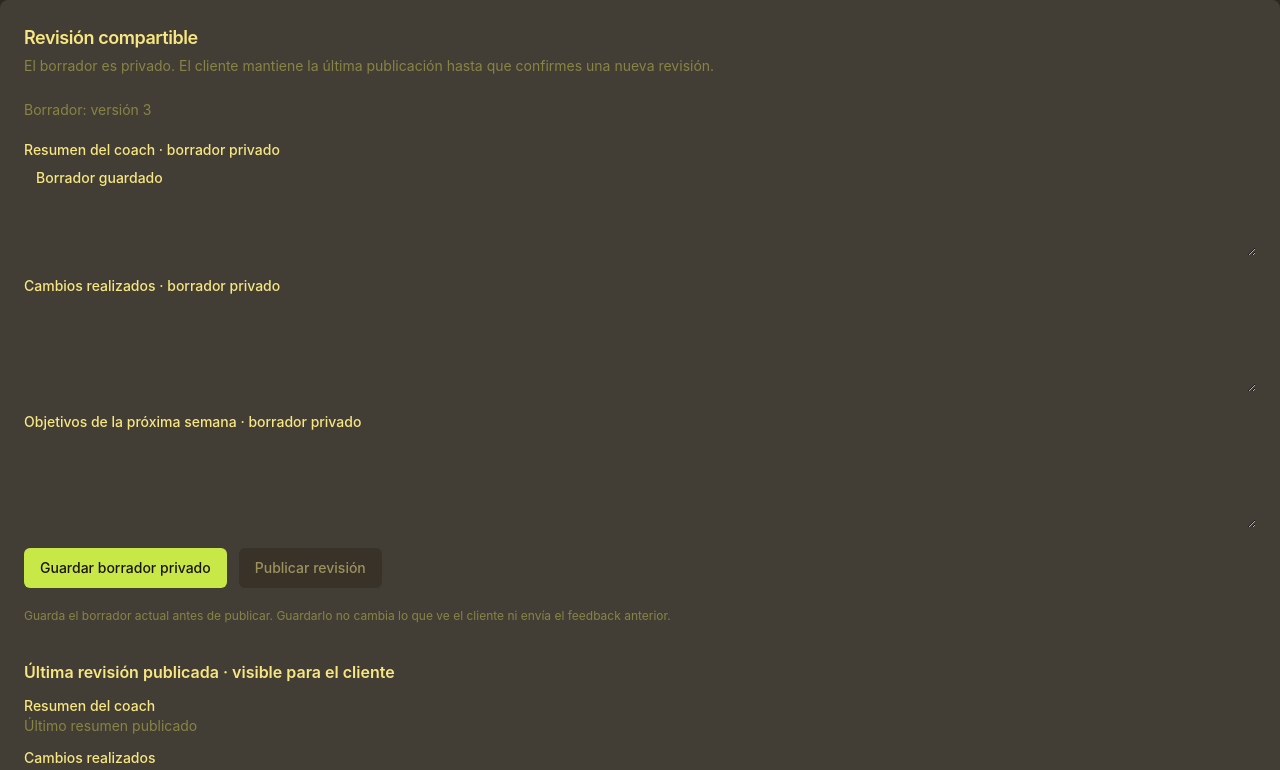
a failed server consultation preserves local values and permits only a read retry
The width and height of the screenshot is (1280, 770).
Step 1. Replace the text in the text box labelled "Resumen del coach · borrador privado" with "Mi revisión nueva" → (640, 208), box [24,160,1256,256]
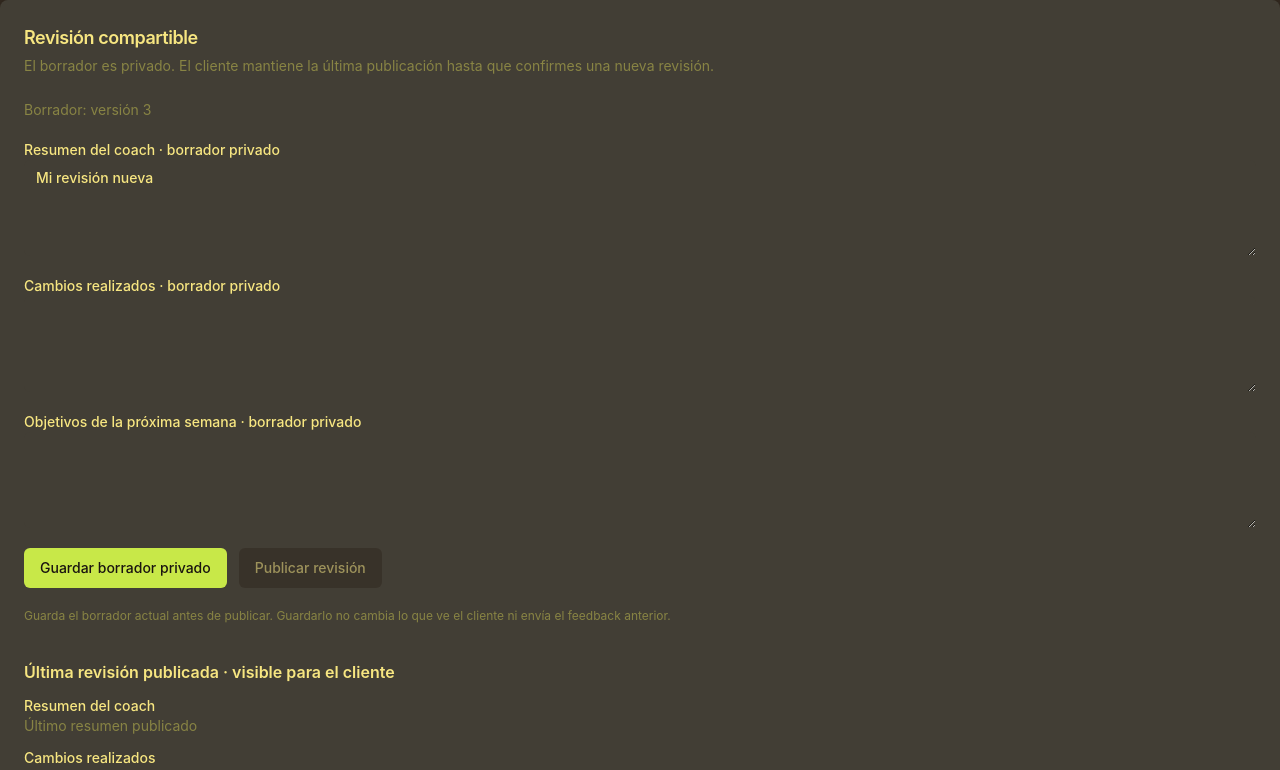
Step 2. Click the button "Guardar borrador privado" → click(125, 568), box [24,548,227,588]
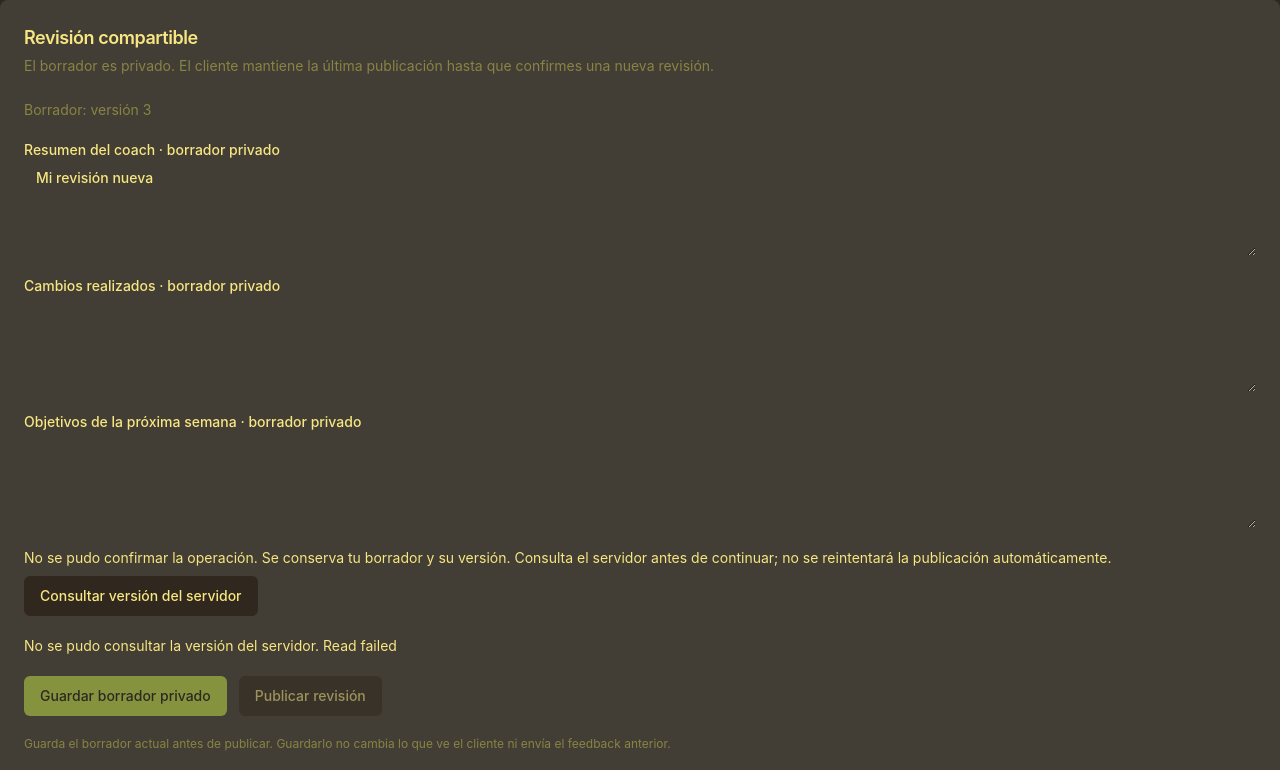
Expected: the button "Descartar borrador y cargar versión" is not shown
Expected: the message "No se pudo consultar la versión del servidor. Read failed" is shown, [24,637,397,654]
Step 3. Click the button "Consultar versión del servidor" → click(141, 596), box [24,576,258,616]
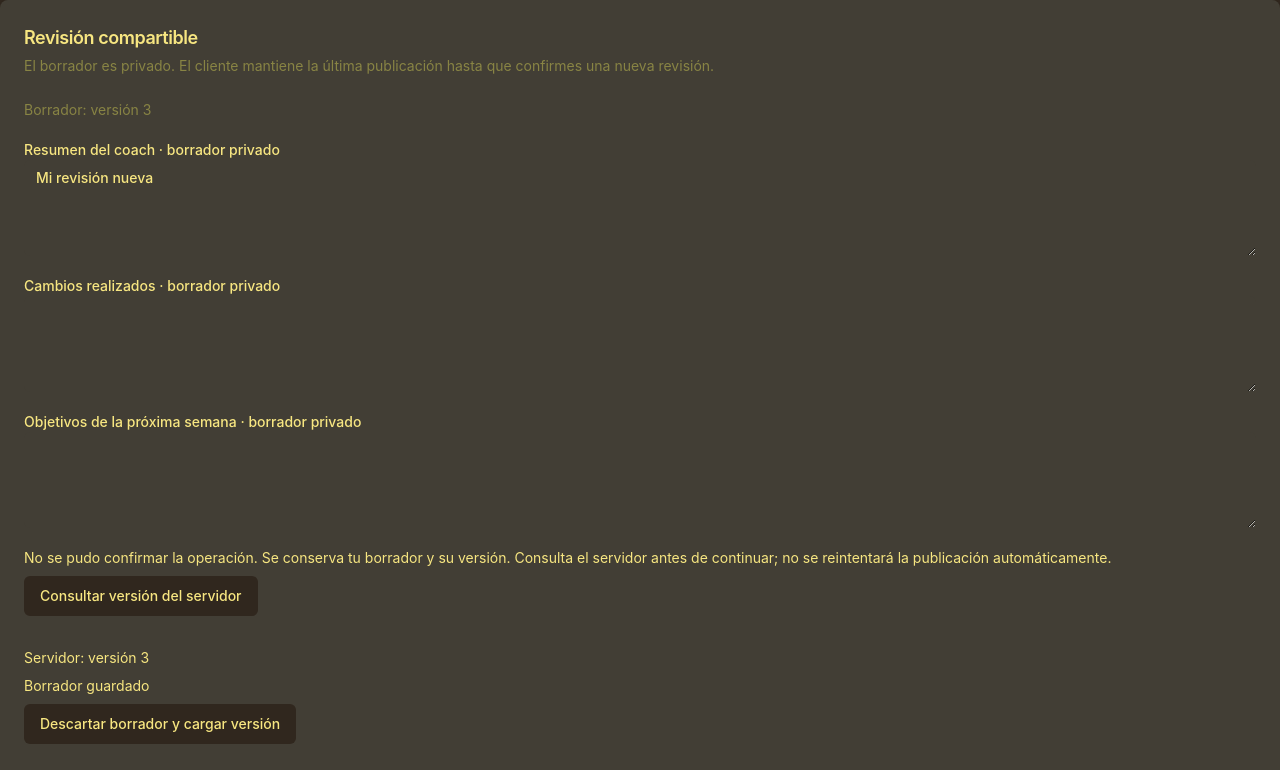
Expected: the text "Servidor: versión 3" is shown, [24,649,149,666]
